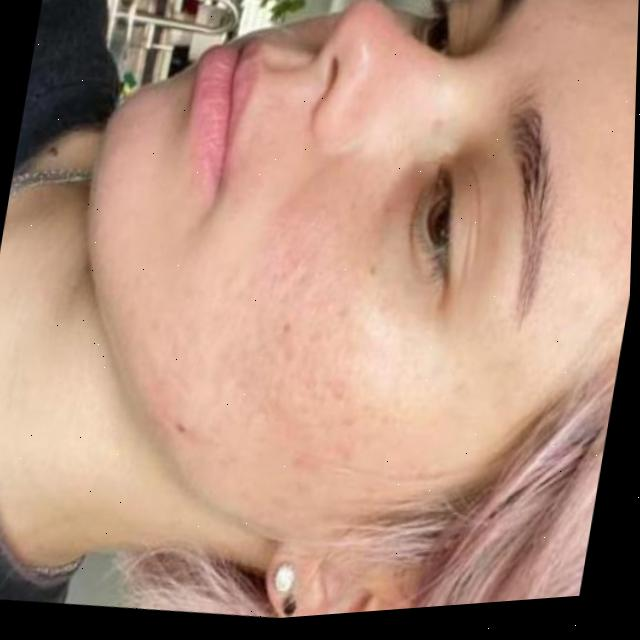Acne: (165, 164, 411, 502)
